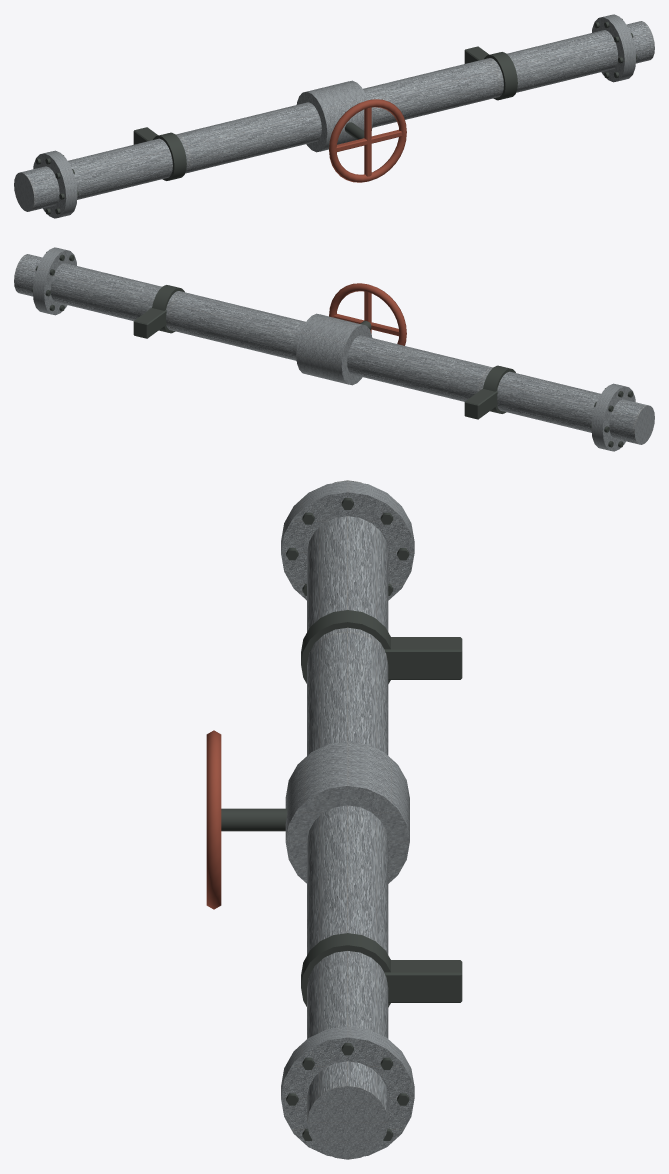
The model's file is utility_pipe.glb.
3 views of the same model, one above another, from view 1: azimuth 30°, elevation 25°; view 2: azimuth 150°, elevation 25°; view 3: azimuth 270°, elevation 25° (orthographic). The views are drawn at different scales.
Visible parts, largest first — view 1: Dull galvanized pipe, Faded red valve wheel, Pipe clamps and gasket; view 2: Dull galvanized pipe, Pipe clamps and gasket, Faded red valve wheel; view 3: Dull galvanized pipe, Pipe clamps and gasket, Faded red valve wheel.
Boxes of the visible parts, x1,y1,x2,y2 form: Dull galvanized pipe: [14, 14, 654, 218]; Faded red valve wheel: [329, 99, 406, 182]; Pipe clamps and gasket: [35, 18, 637, 214]; Dull galvanized pipe: [14, 247, 654, 451]; Pipe clamps and gasket: [31, 251, 633, 447]; Faded red valve wheel: [329, 283, 406, 345]; Dull galvanized pipe: [281, 480, 414, 1159]; Pipe clamps and gasket: [221, 498, 462, 1140]; Faded red valve wheel: [206, 730, 221, 909].
Size of the model in its own units: 3 by 0.376 by 0.5356.
3 materials, 1 textured.
